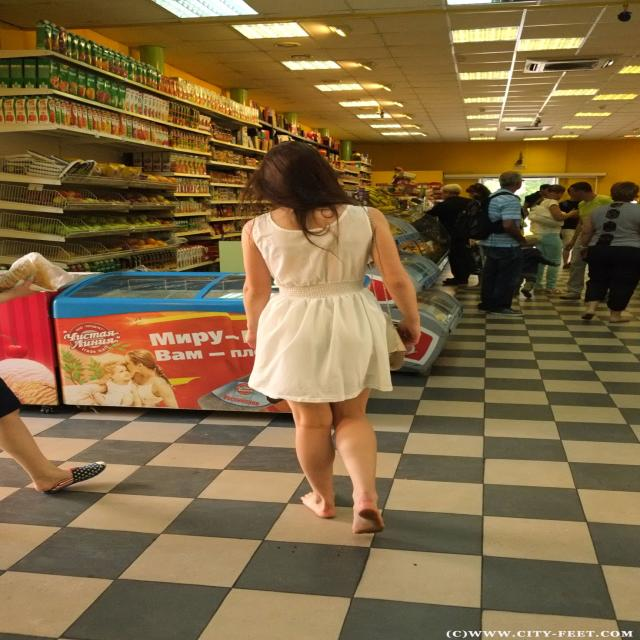No Safety Boots: (352, 502, 385, 534), (300, 491, 336, 518)
